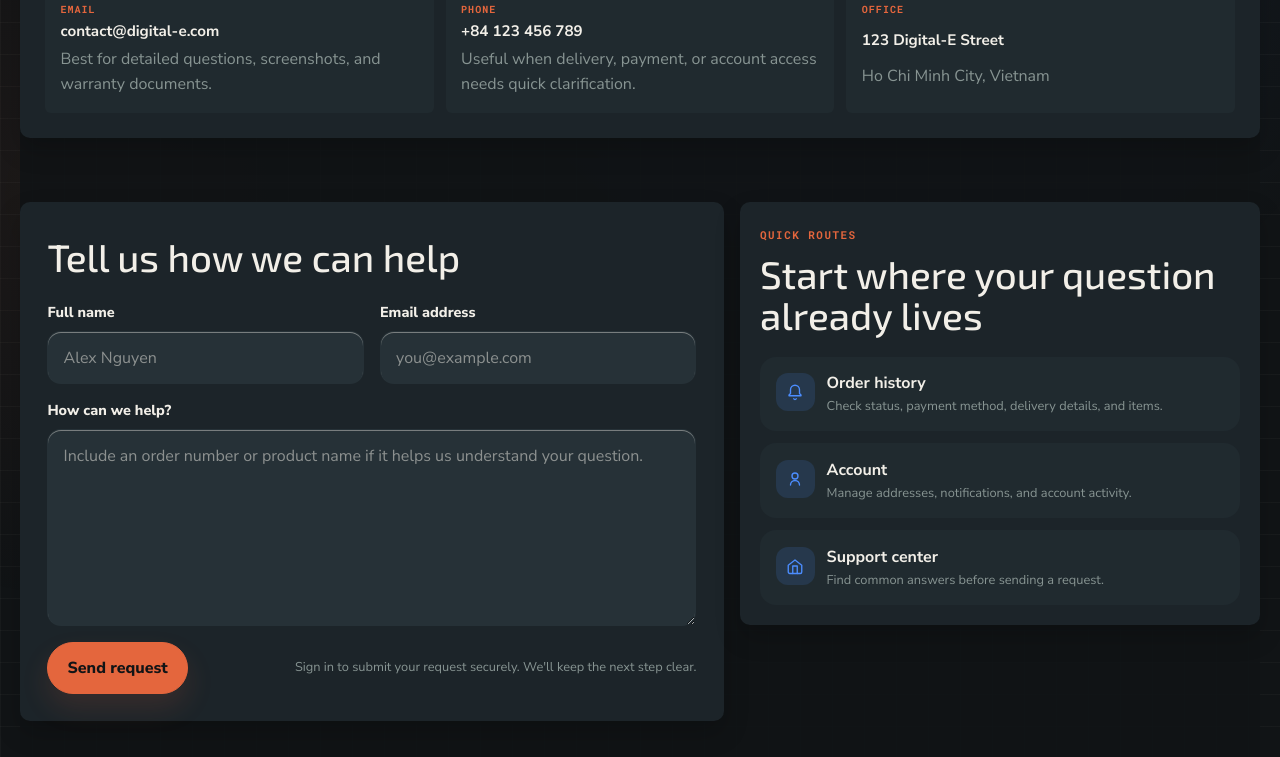
Test: ContactUsPage › uses localized loading and error copy
The width and height of the screenshot is (1280, 757).
(page scrolled)
Type "Buyer" into the field labelled "Full name" at [206, 358], box [47,331,364,384]
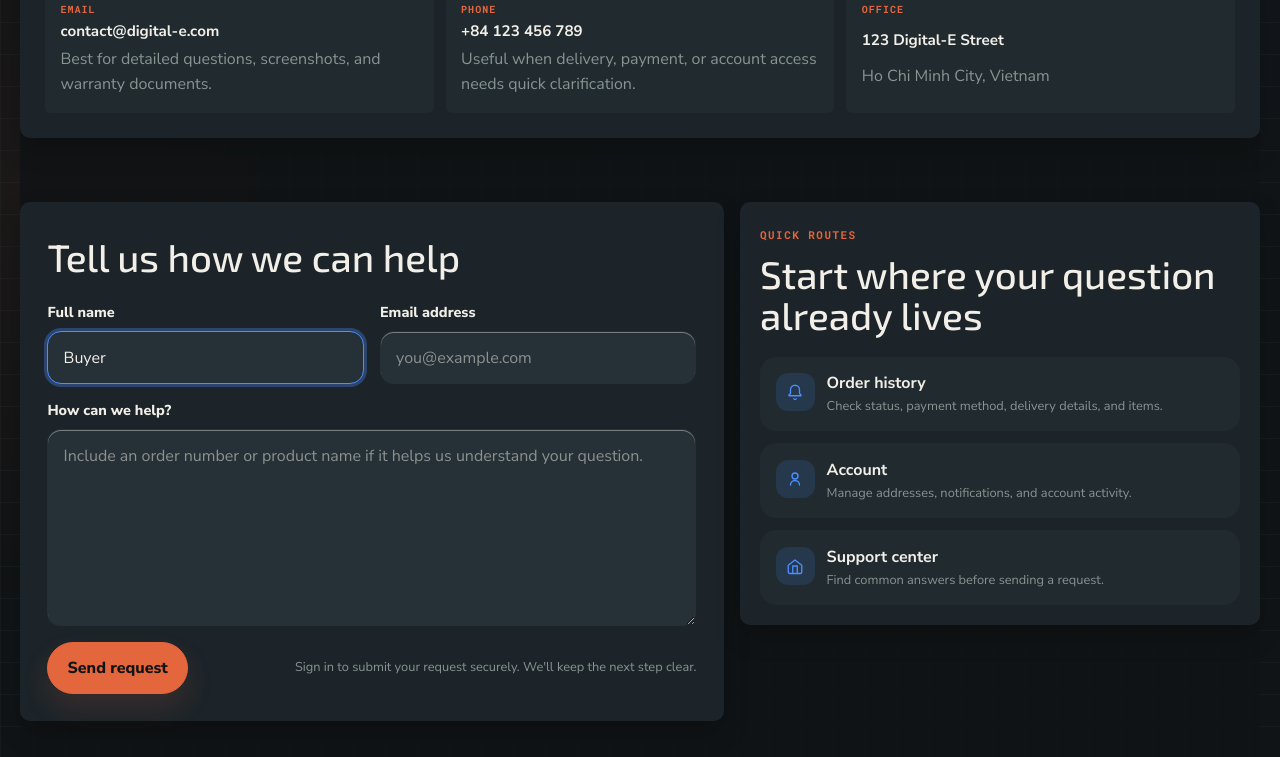
Type "buyer@example.com" into the field labelled "Email address" at [538, 358], box [380,331,696,384]
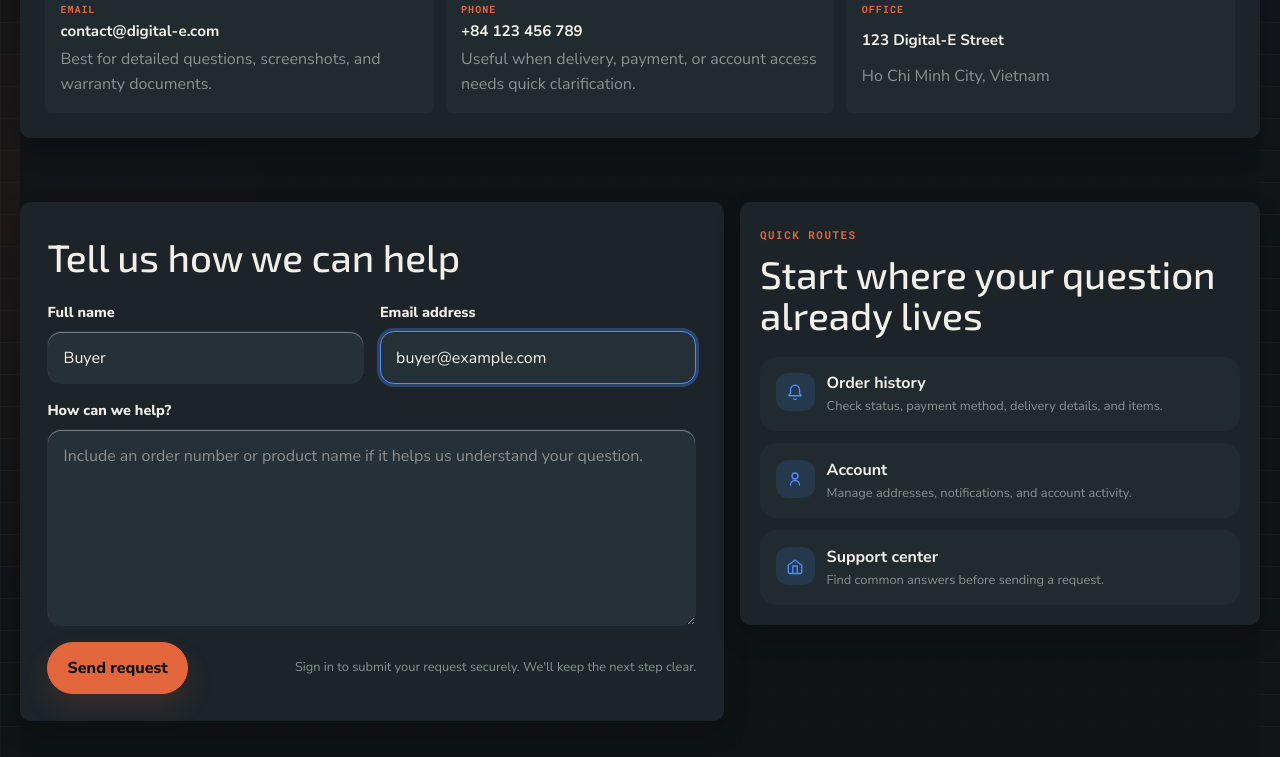
Type "Help" into the text box labelled "How can we help?" at [372, 528], box [47,429,696,626]
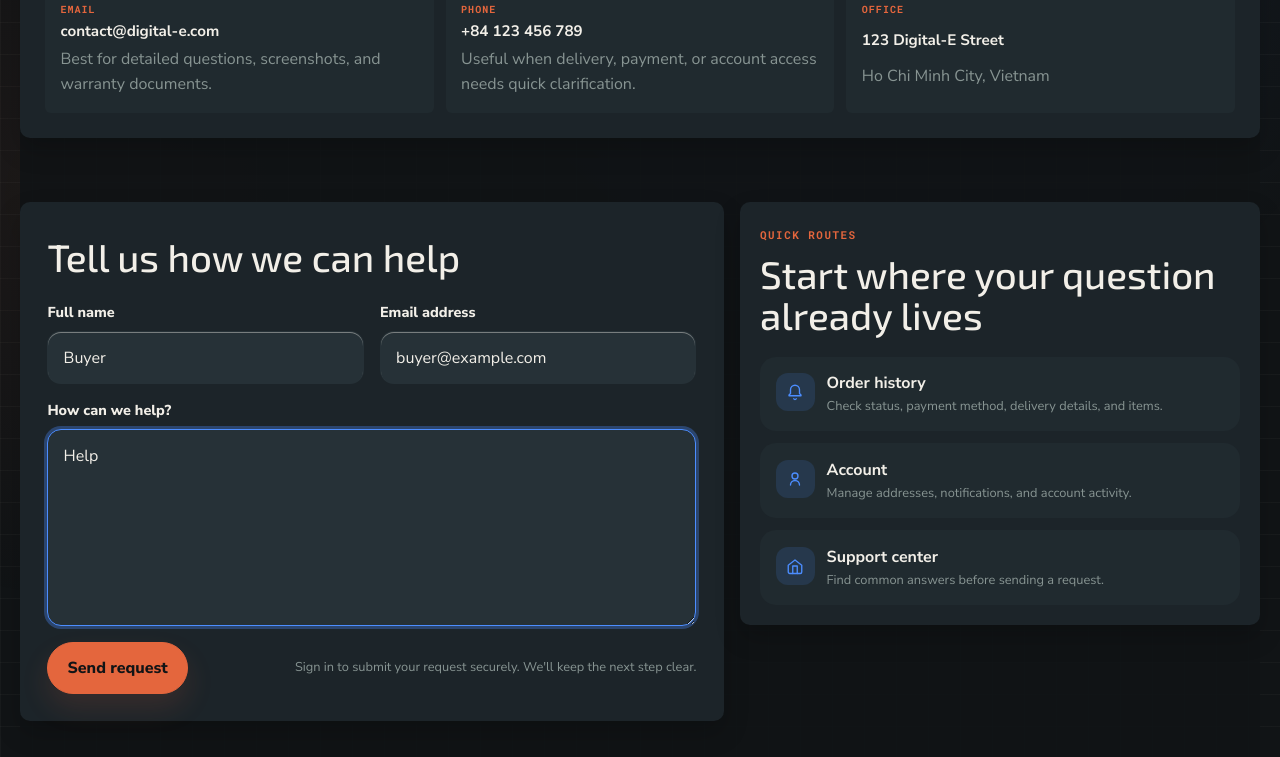
Click the button "Send request" at [118, 668], box [47,642,188,694]
(page scrolled)
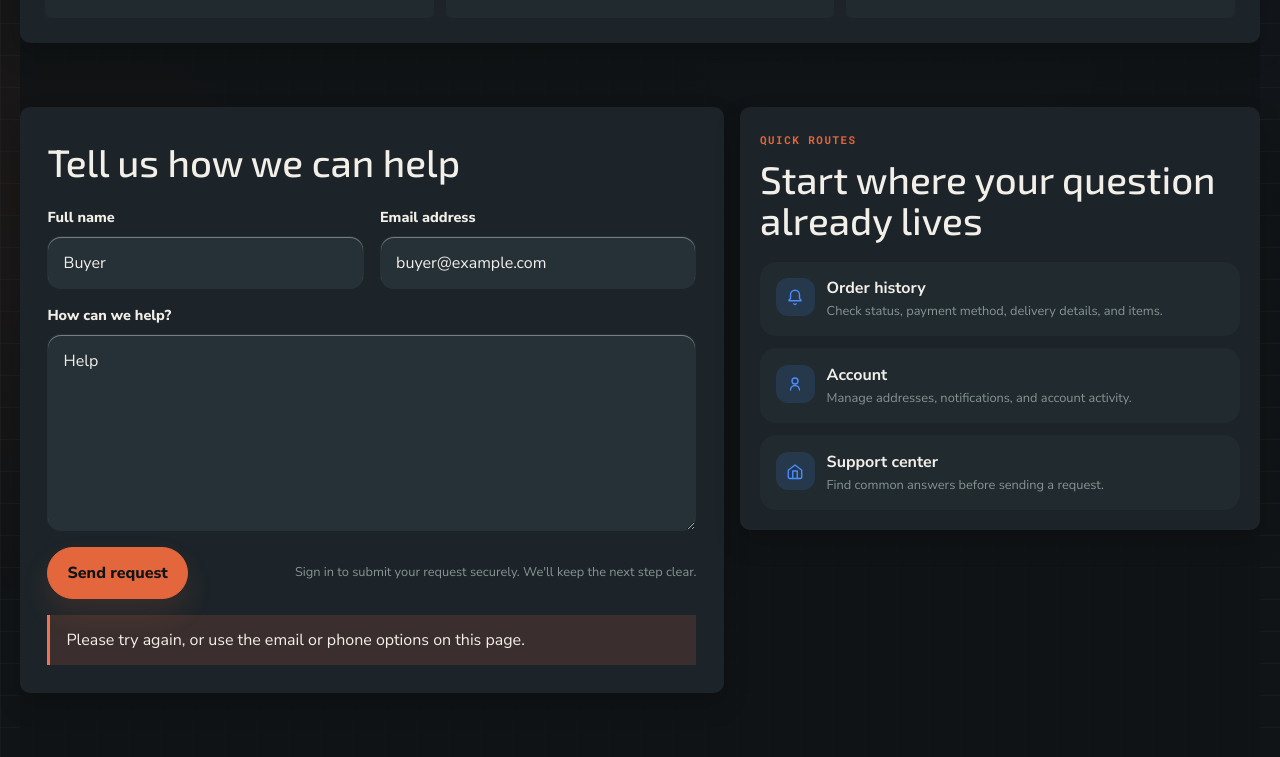
Check: the message reads "Please try again, or use the email or phone options on this page.", box [66,629,525,651]
